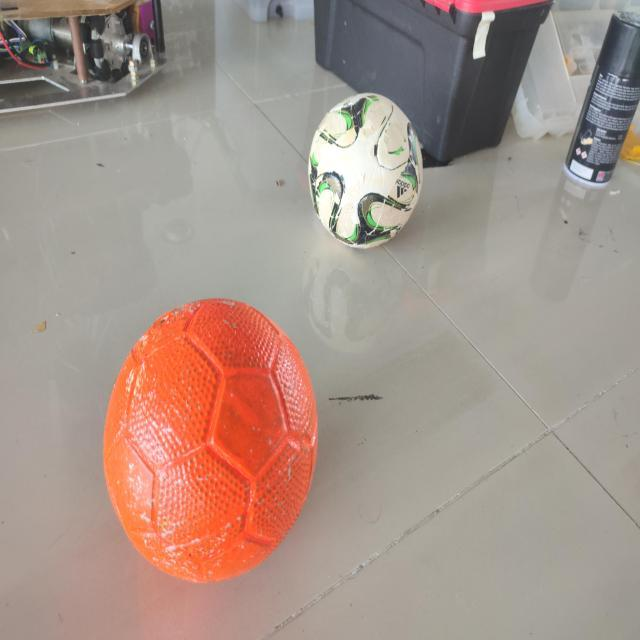bola: (98, 287, 322, 587)
